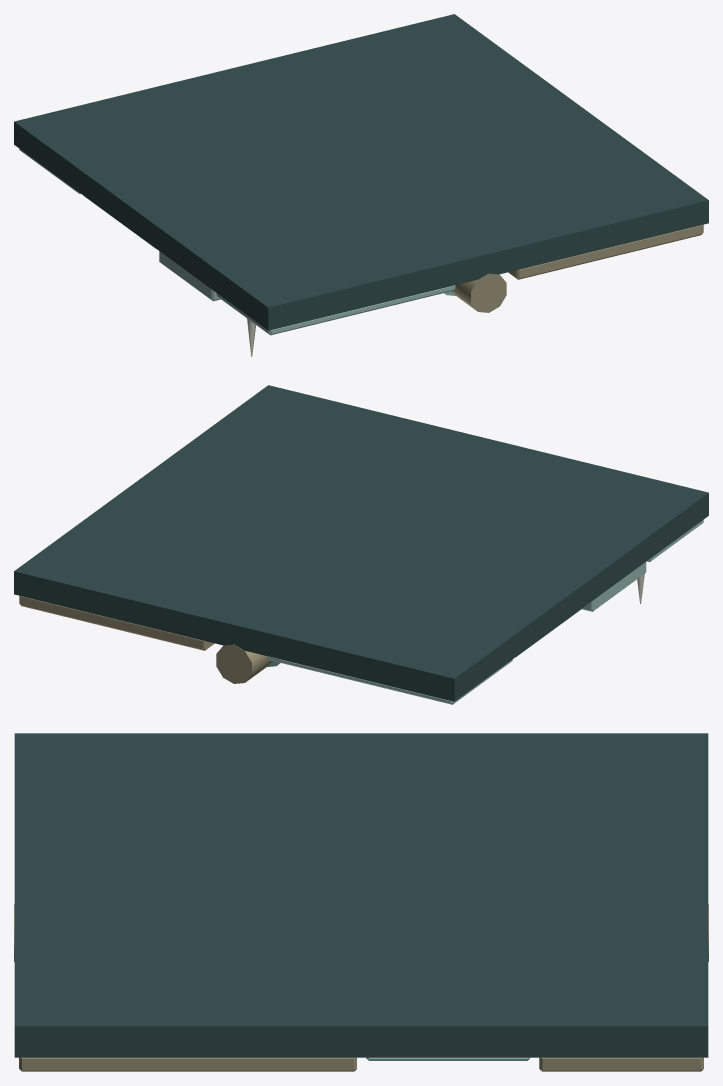
The model's file is ceil_dr_rib.glb.
3 views of the same model, one above another, from view 1: azimuth 30°, elevation 25°; view 2: azimuth 150°, elevation 25°; view 3: azimuth 270°, elevation 25° (orthographic). The views are drawn at different scales.
Parts seen in each view (by area): view 1: ceil_dr_rib; view 2: ceil_dr_rib; view 3: ceil_dr_rib.
Part boxes in pixels (box(x1,y1,x2,y2)): ceil_dr_rib: box(14, 14, 708, 356); ceil_dr_rib: box(14, 385, 708, 704); ceil_dr_rib: box(14, 733, 708, 1071).
Size of the model in its own units: 4 by 0.7498 by 4.01.
